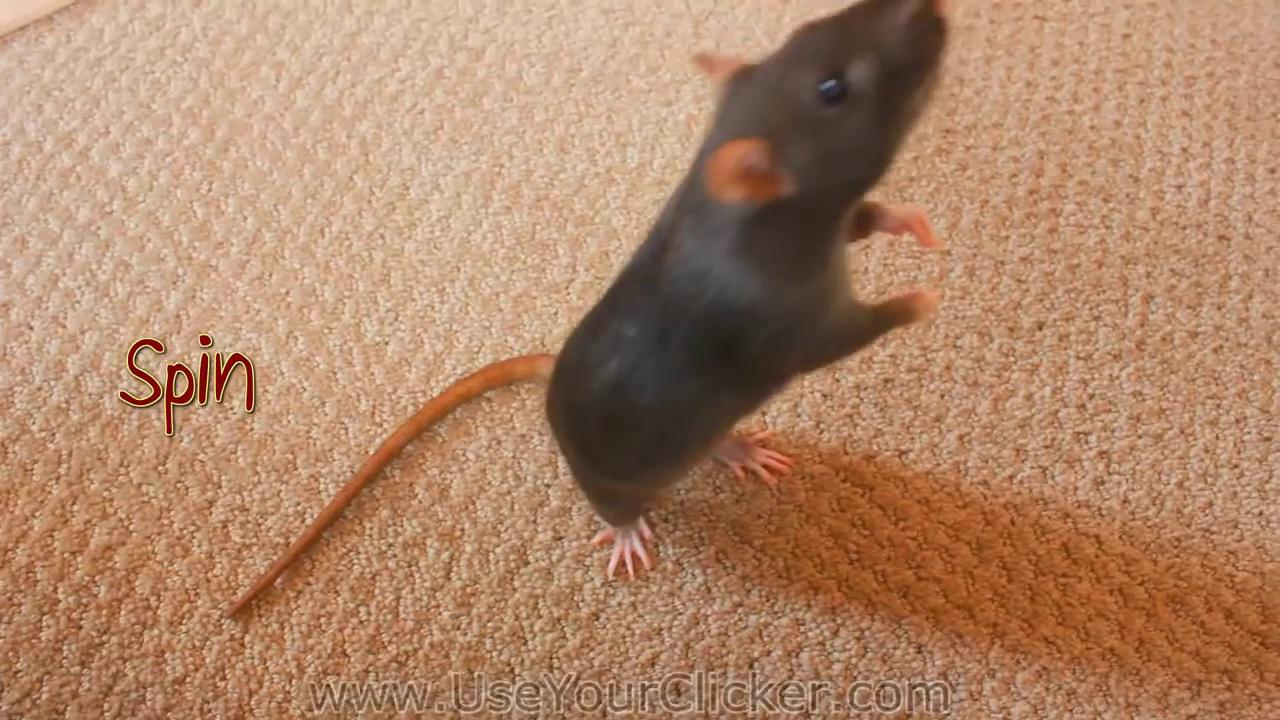rat: (219, 0, 949, 620)
